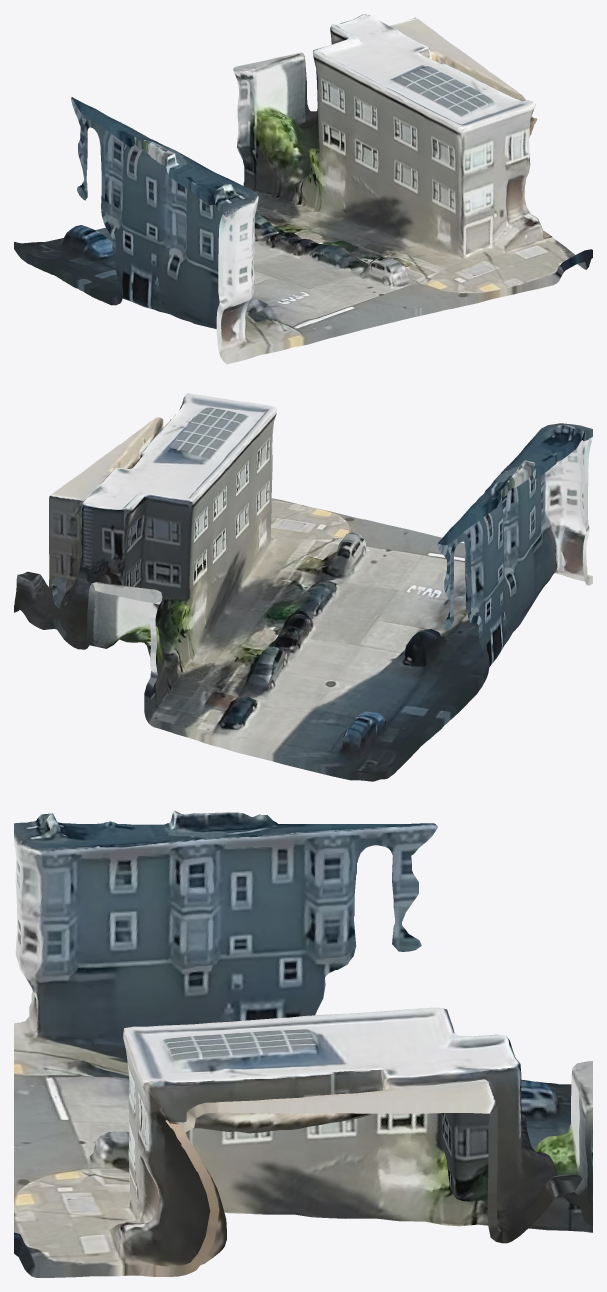
The model's file is z20-167743-405195-h0-yup-uvflip-v3-world.glb.
The picture shows the model from 3 angles, top to bottom: view 1: azimuth 30°, elevation 25°; view 2: azimuth 150°, elevation 25°; view 3: azimuth 270°, elevation 25°; orthographic projection. The views are drawn at different scales.
Bounding box in the file's own units: 30.16 × 16.92 × 30.32.
Materials: 1 (1 with a texture image).
